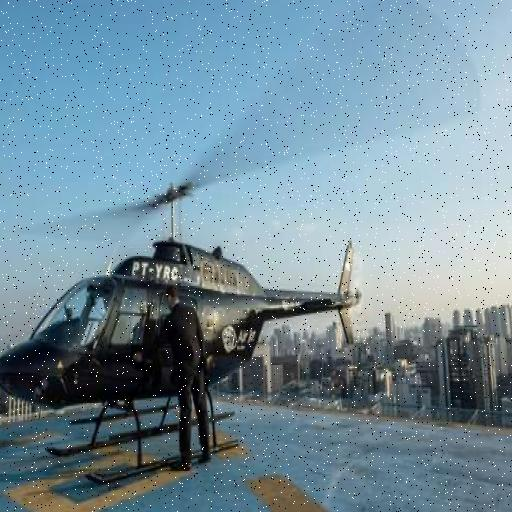helicopter: (1, 183, 367, 483)
